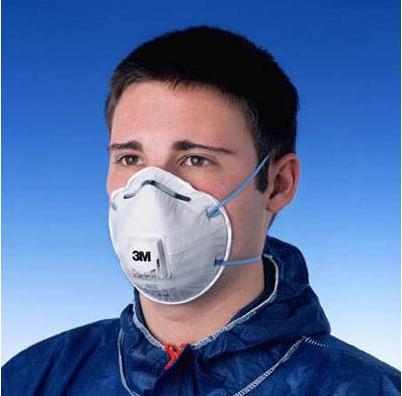OK: (106, 114, 247, 303)
